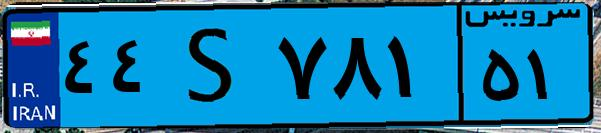1: (385, 28, 445, 110), (525, 38, 570, 115)
4: (57, 26, 110, 100), (110, 28, 158, 98)
5: (475, 38, 525, 113)
7: (270, 28, 330, 110)
8: (330, 28, 385, 110)
S: (158, 12, 270, 120)
